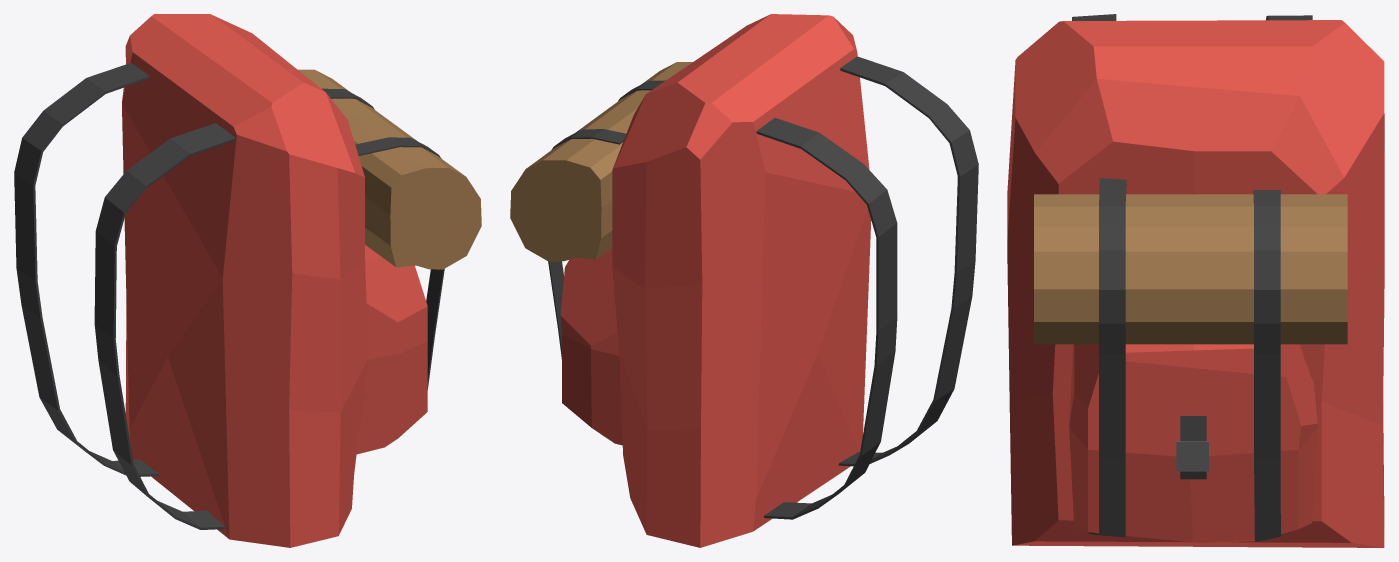
Rendered from mochila3d.fbx.
The picture shows the model from 3 angles, left to right: view 1: azimuth 30°, elevation 25°; view 2: azimuth 150°, elevation 25°; view 3: azimuth 270°, elevation 25°; orthographic projection. The views are drawn at different scales.
Parts seen in each view (by area): view 1: backpack1.001; view 2: backpack1.001; view 3: backpack1.001.
Boxes of the visible parts, bbox=[...] form: backpack1.001: bbox=[14, 14, 481, 547]; backpack1.001: bbox=[510, 14, 978, 547]; backpack1.001: bbox=[1007, 14, 1384, 547].
Size of the model in its own units: 657 by 767 by 522.
